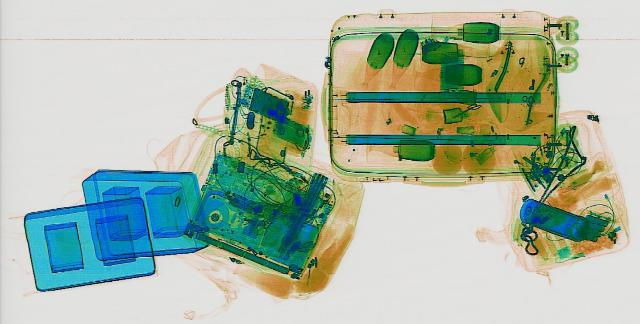Scissors: (450, 101, 480, 117)
